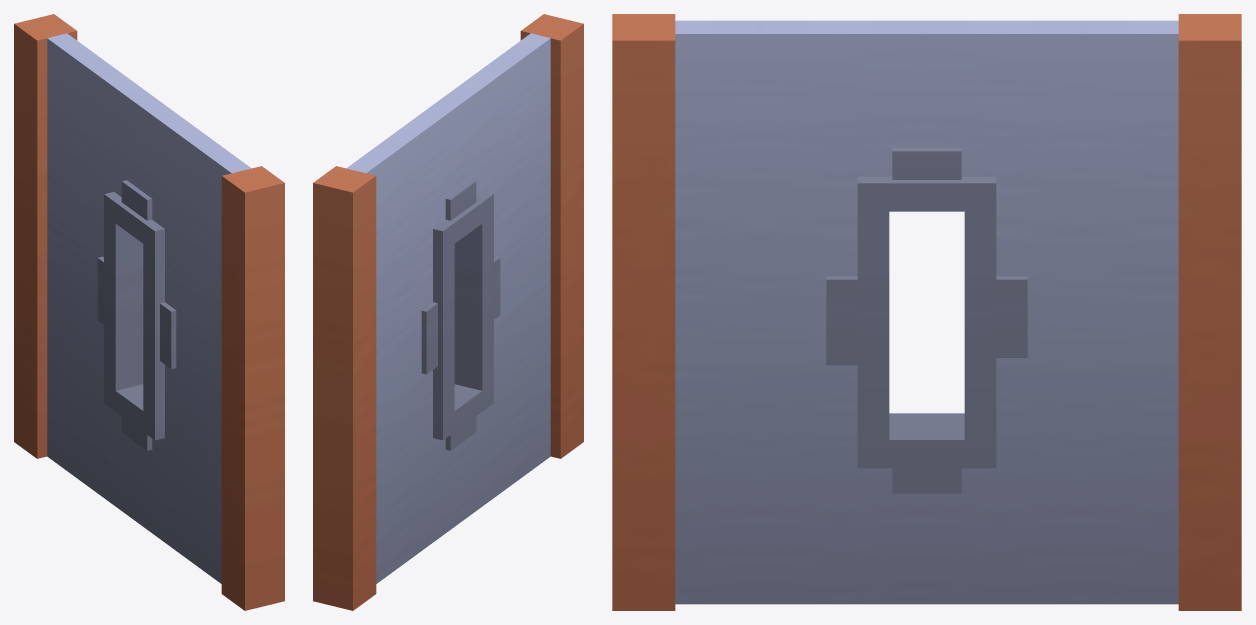
The model's file is wallWindowStone.fbx.
3 views of the same model, side by side, from view 1: azimuth 30°, elevation 25°; view 2: azimuth 150°, elevation 25°; view 3: azimuth 270°, elevation 25° (orthographic). The views are drawn at different scales.
Visible parts, largest first — view 1: wallWindowStone; view 2: wallWindowStone; view 3: wallWindowStone.
Boxes of the visible parts, x1=… form: wallWindowStone: x1=14, y1=14, x2=284, y2=610; wallWindowStone: x1=313, y1=14, x2=583, y2=610; wallWindowStone: x1=612, y1=14, x2=1241, y2=610.
Bounding box in the file's own units: 0.1 × 1 × 1.
